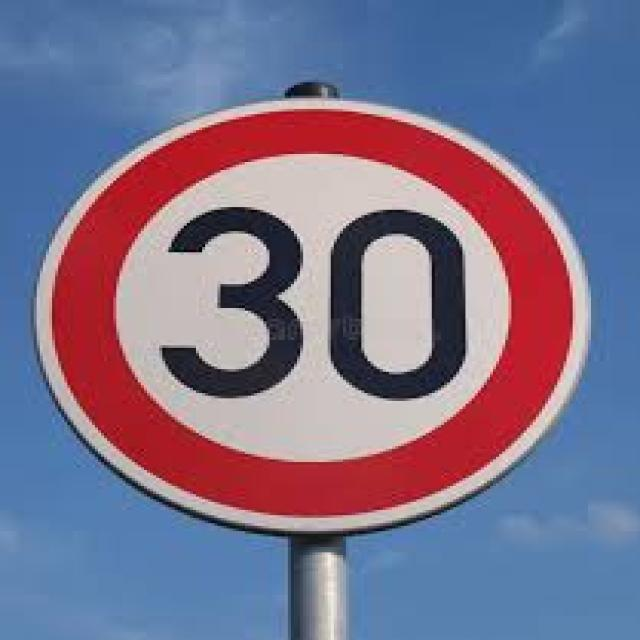Speed limit 30: (29, 91, 595, 540)
